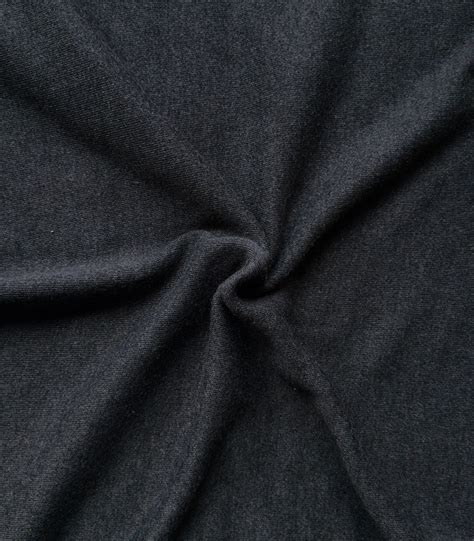gamuza: (1, 1, 474, 541)
